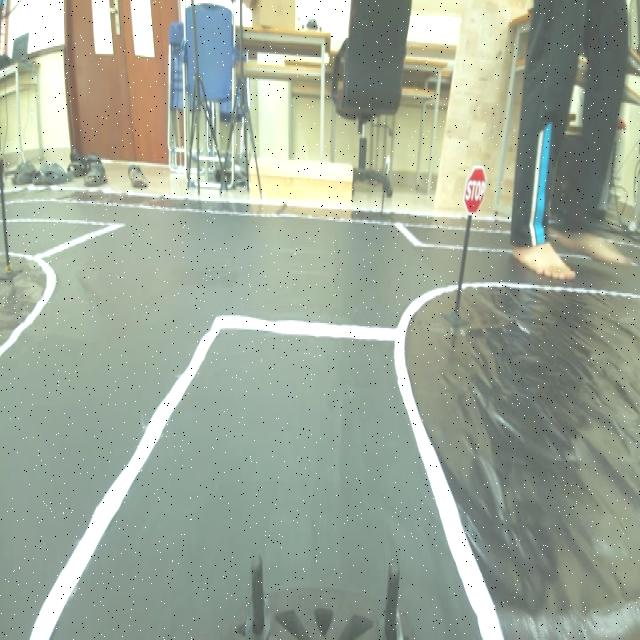stop: (460, 166, 488, 213)
